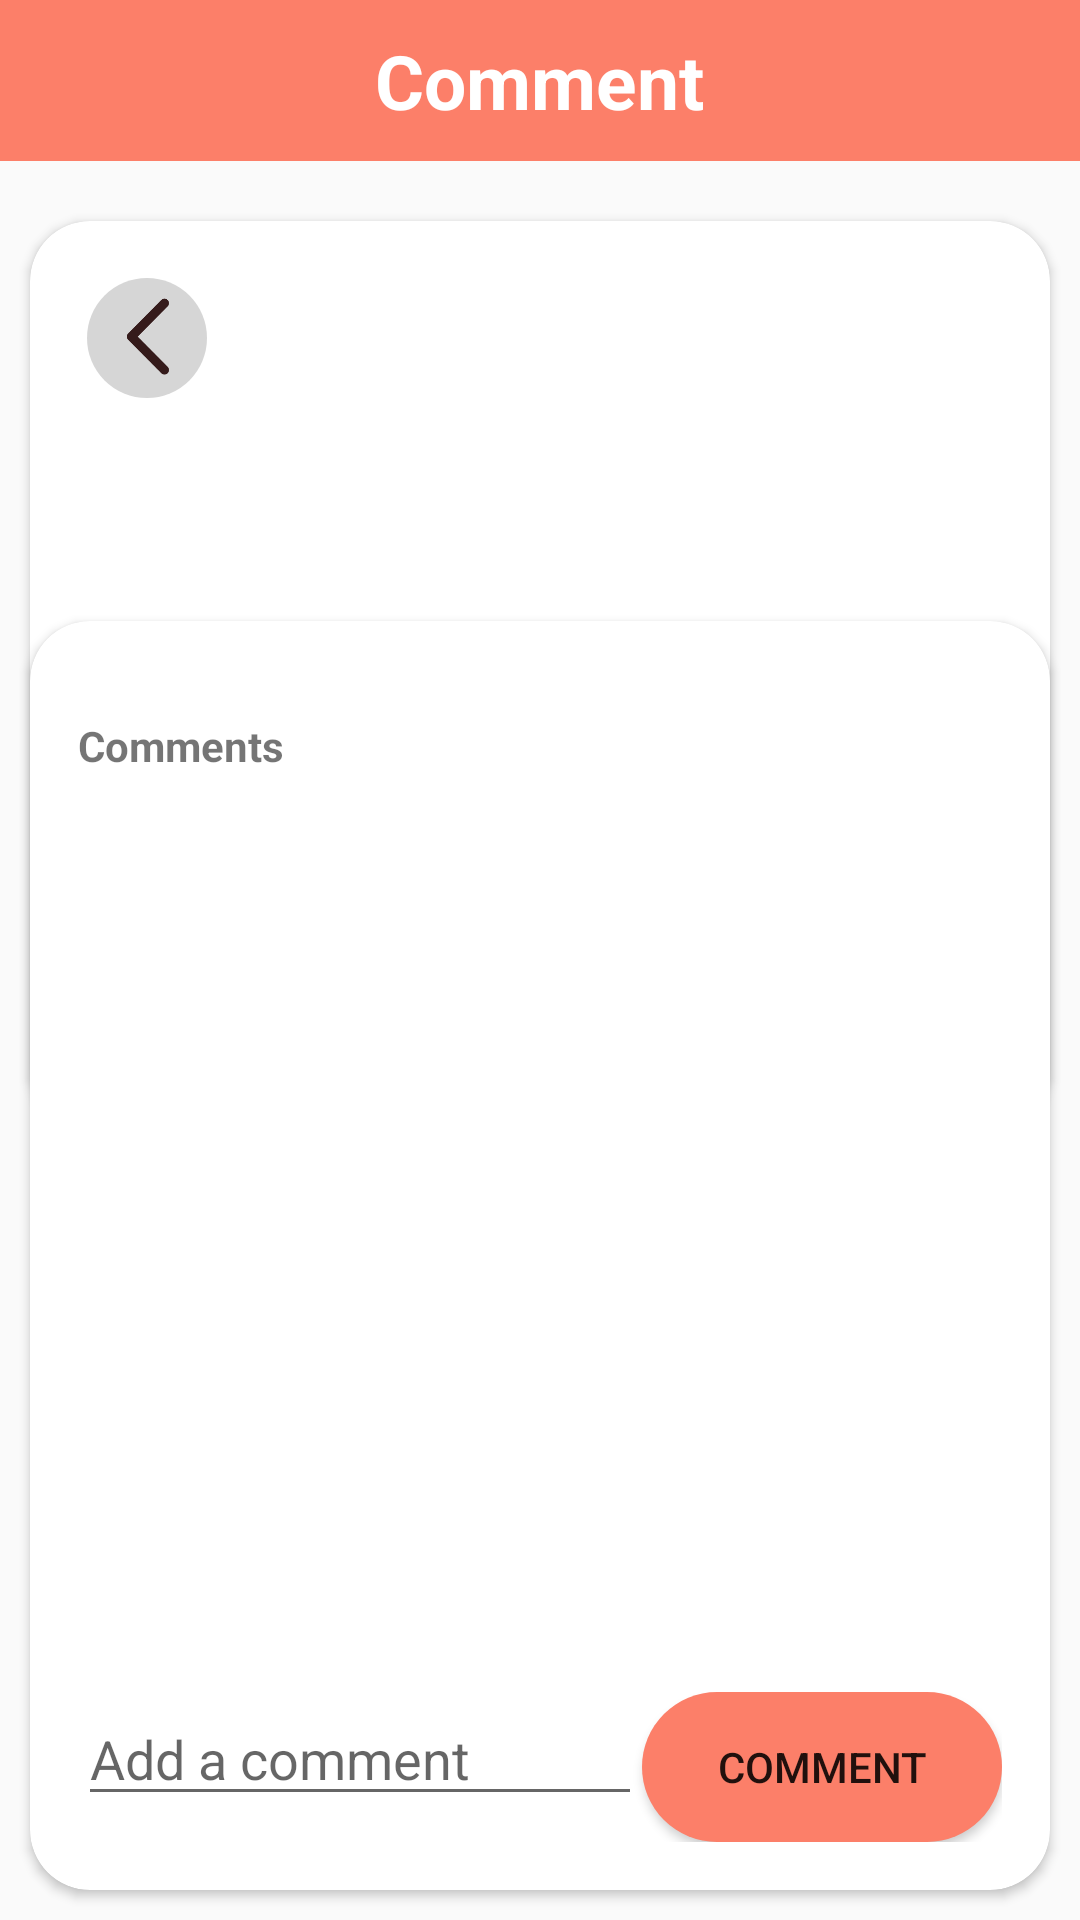

Named icons in this screenshot (1080x1920) and their bounding boxes, (x1, y1, x2, y2):
back: (87, 278, 207, 398)
